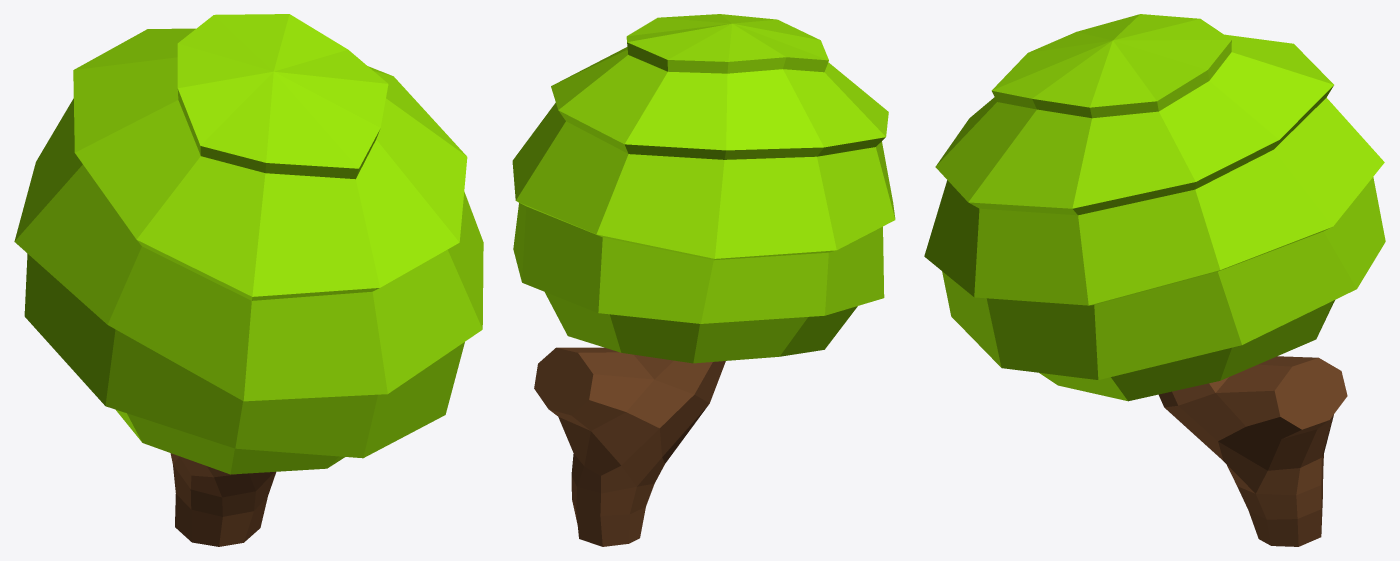
File: Bush002.fbx
3 views of the same model, side by side, from view 1: azimuth 30°, elevation 25°; view 2: azimuth 150°, elevation 25°; view 3: azimuth 270°, elevation 25° (orthographic). The views are drawn at different scales.
Parts seen in each view (by area): view 1: BushLeave002, BushStem002; view 2: BushLeave002, BushStem002; view 3: BushLeave002, BushStem002.
Boxes of the visible parts, <box> form: BushLeave002: <box>14,14,483,474</box>; BushStem002: <box>170,453,276,546</box>; BushLeave002: <box>512,14,895,363</box>; BushStem002: <box>534,347,725,546</box>; BushLeave002: <box>924,14,1385,401</box>; BushStem002: <box>1159,356,1347,546</box>.
Size of the model in its own units: 102 by 139 by 120.
